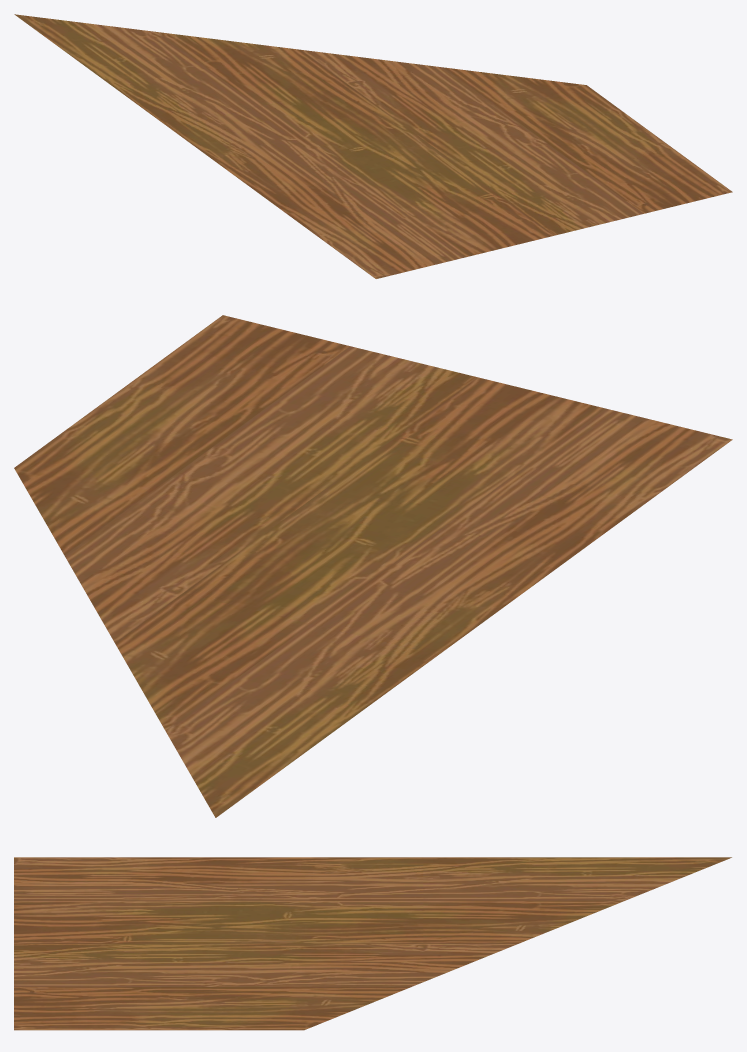
Rendered from floor-woodlight-overhangcorner.glb.
The picture shows the model from 3 angles, top to bottom: view 1: azimuth 30°, elevation 25°; view 2: azimuth 150°, elevation 25°; view 3: azimuth 270°, elevation 25°; orthographic projection. The views are drawn at different scales.
Visible parts, largest first — view 1: Floor_WoodLight_OverhangCorner; view 2: Floor_WoodLight_OverhangCorner; view 3: Floor_WoodLight_OverhangCorner.
Part boxes in pixels (x1,y1,x2,y2): Floor_WoodLight_OverhangCorner: [14, 14, 732, 278]; Floor_WoodLight_OverhangCorner: [14, 315, 732, 817]; Floor_WoodLight_OverhangCorner: [14, 857, 731, 1030].
Size of the model in its own units: 1 by 0.02 by 1.76.
Materials: 1 (1 with a texture image).
